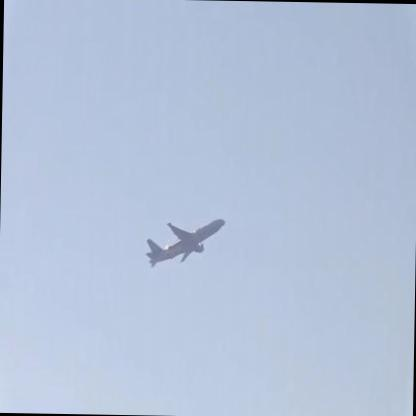plane: (144, 205, 227, 271)
